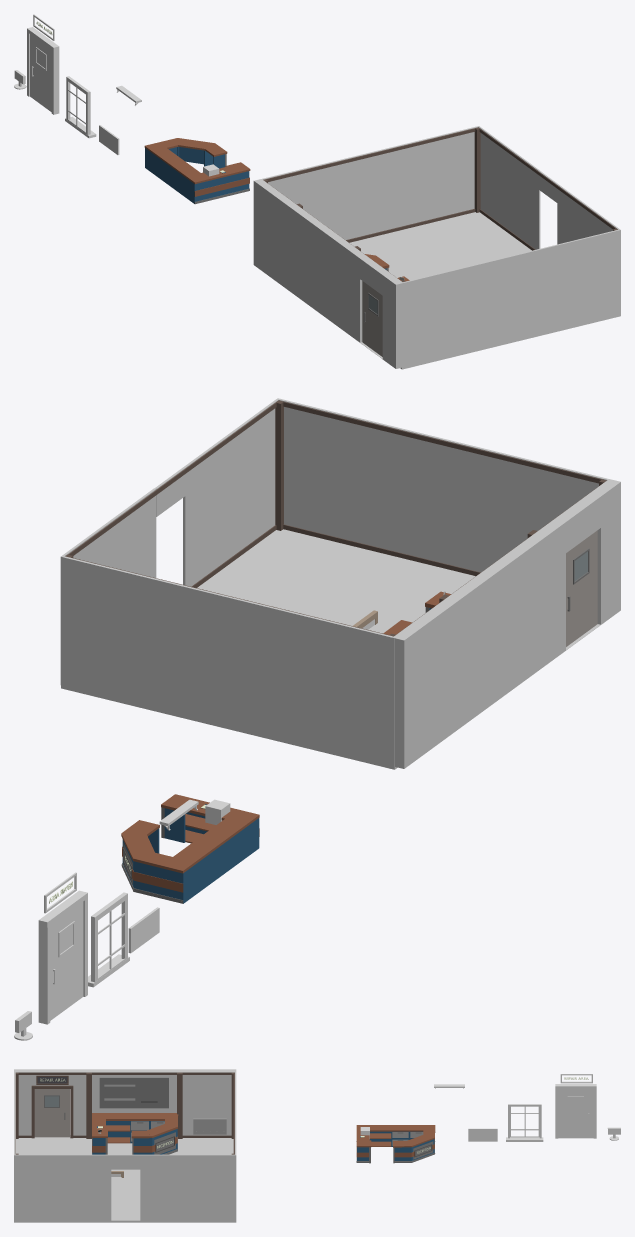
Rendered from windows_with_light.fbx.
3 renders of one model, top to bottom at view 1: azimuth 30°, elevation 25°; view 2: azimuth 150°, elevation 25°; view 3: azimuth 270°, elevation 25°, orthographic. The views are drawn at different scales.
Visible parts, largest first — view 1: main_room, Куб.062, repair_door, reg_table.024, reg_table.006, Куб.057, Куб.009; view 2: main_room, Куб.062, repair_door, reg_table.024, Куб.009, Куб.055, reg_table.002; view 3: main_room, reg_table.037, Куб.045, repair_door, Куб.062, repair_door_colums, Куб.034, Куб.032, Куб.009, reg_table.
Boxes of the visible parts, <box> form: main_room: <box>253,126,620,369</box>; Куб.062: <box>30,34,51,111</box>; repair_door: <box>362,281,382,356</box>; reg_table.024: <box>145,148,195,203</box>; reg_table.006: <box>195,171,248,201</box>; Куб.057: <box>51,47,59,114</box>; Куб.009: <box>152,148,200,177</box>; main_room: <box>60,398,620,769</box>; Куб.062: <box>50,902,83,1020</box>; repair_door: <box>566,530,597,646</box>; reg_table.024: <box>184,818,259,902</box>; Куб.009: <box>173,818,247,864</box>; Куб.055: <box>38,920,50,1024</box>; reg_table.002: <box>134,861,184,903</box>; main_room: <box>14,1069,236,1222</box>; reg_table.037: <box>92,1113,178,1154</box>; Куб.045: <box>99,1077,168,1108</box>; repair_door: <box>34,1089,69,1137</box>; Куб.062: <box>558,1089,593,1138</box>; repair_door_colums: <box>31,1075,73,1138</box>; Куб.034: <box>193,1118,226,1134</box>; Куб.032: <box>468,1129,497,1141</box>; Куб.009: <box>369,1125,423,1131</box>; reg_table: <box>411,1139,434,1160</box>.
Size of the model in its own units: 4380 by 2254 by 13067.
